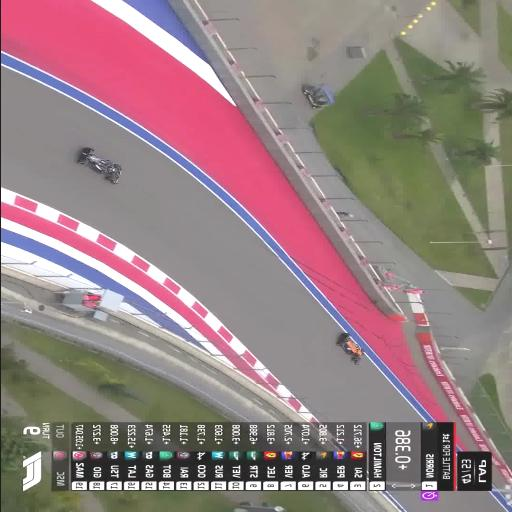f1_car: (77, 148, 121, 185), (336, 333, 363, 365)
